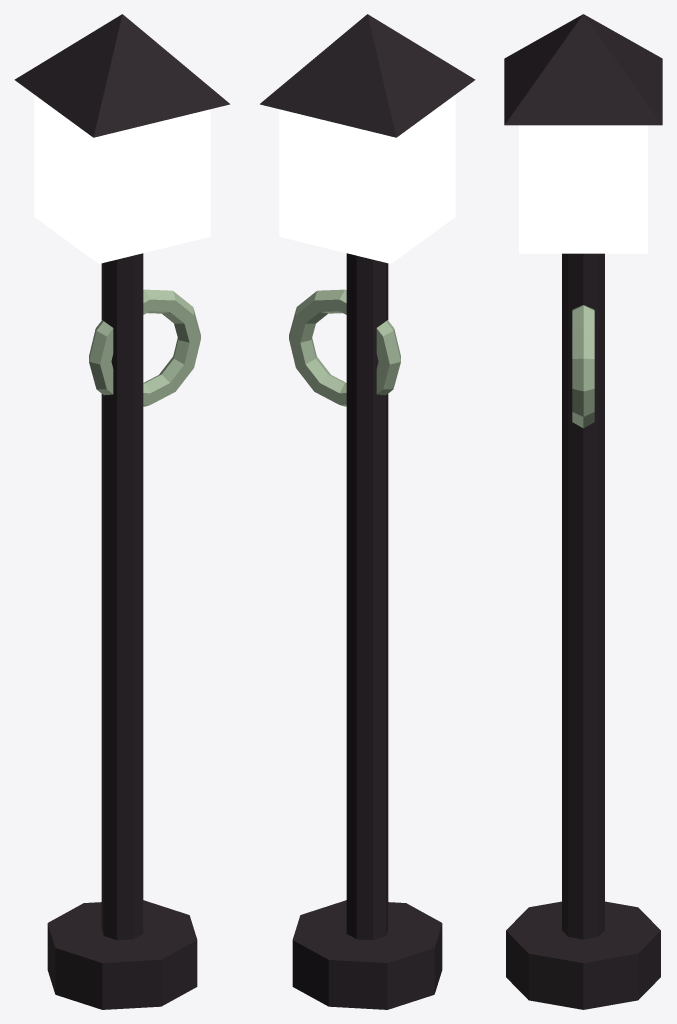
The model's file is sb_lamp_post.glb.
3 views of the same model, side by side, from view 1: azimuth 30°, elevation 25°; view 2: azimuth 150°, elevation 25°; view 3: azimuth 270°, elevation 25° (orthographic).
Visible parts, largest first — view 1: lamp_post; view 2: lamp_post; view 3: lamp_post.
Boxes of the visible parts, x1=… form: lamp_post: x1=14, y1=14, x2=229, y2=1009; lamp_post: x1=260, y1=14, x2=475, y2=1009; lamp_post: x1=504, y1=14, x2=662, y2=1009.
Size of the model in its own units: 0.3938 by 2.47 by 0.3677.
